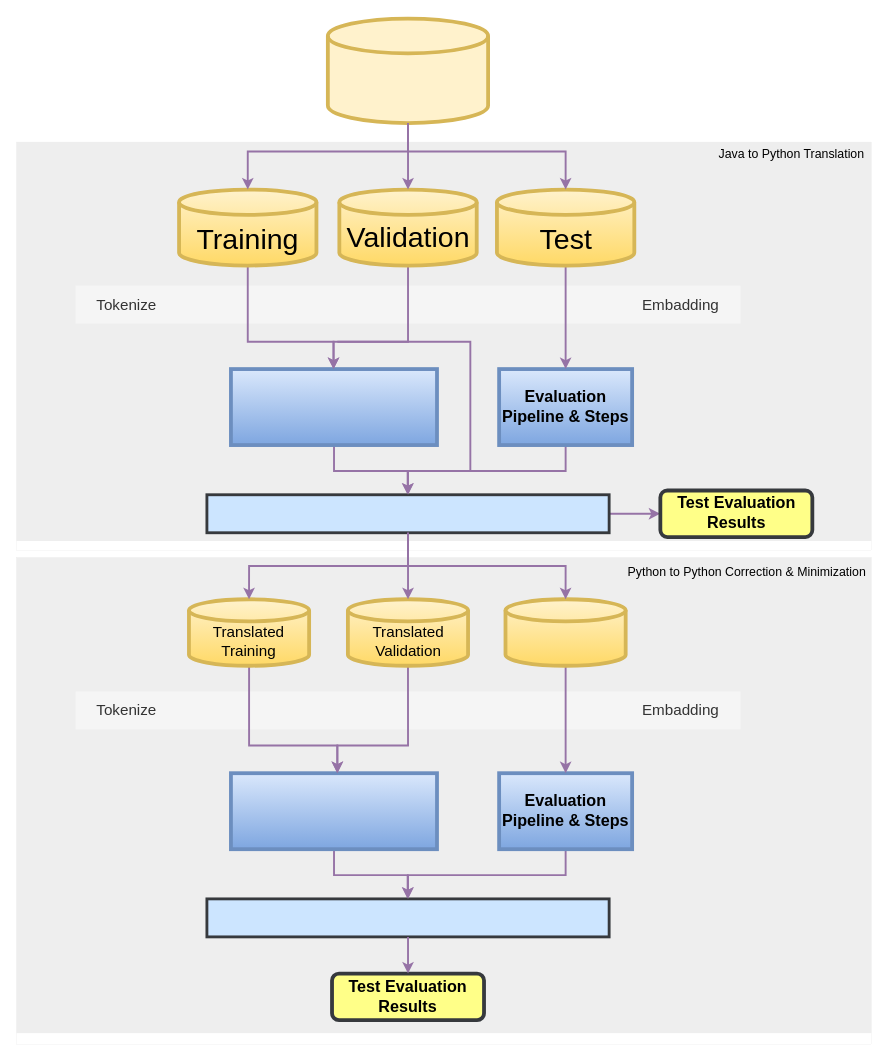
The diagram is 887 pixels wide and 1060 high, and some of its shapes have lost their labels. Each missing label, with the box of its shape:
Avatar-TC Dataset: (325, 16, 490, 124)
CodeT5 Fine Tuned Model: (205, 493, 610, 534)
CodeT5 Training Pipeline (Loss, Optimization, Epochs): (229, 367, 438, 446)
PLBART Fine Tuned Model: (205, 897, 610, 938)
PLBART Training Pipeline (Loss, Optimization, Epochs): (229, 771, 438, 851)
Translated Test: (503, 597, 627, 667)
